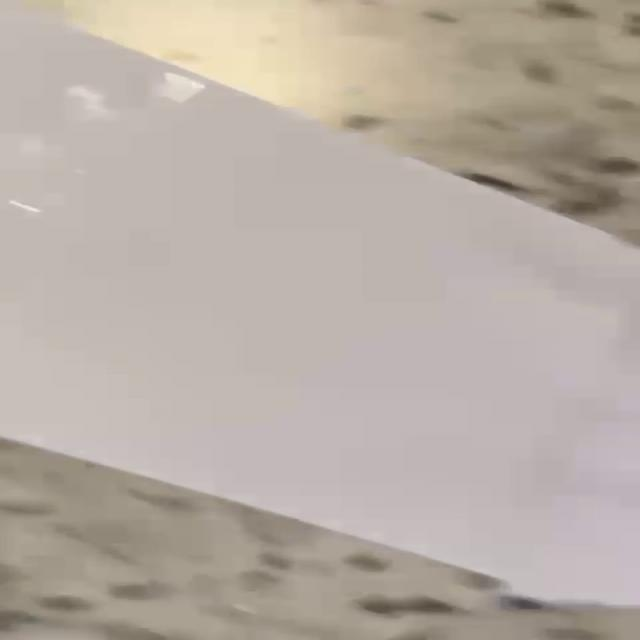road: (0, 5, 640, 611)
